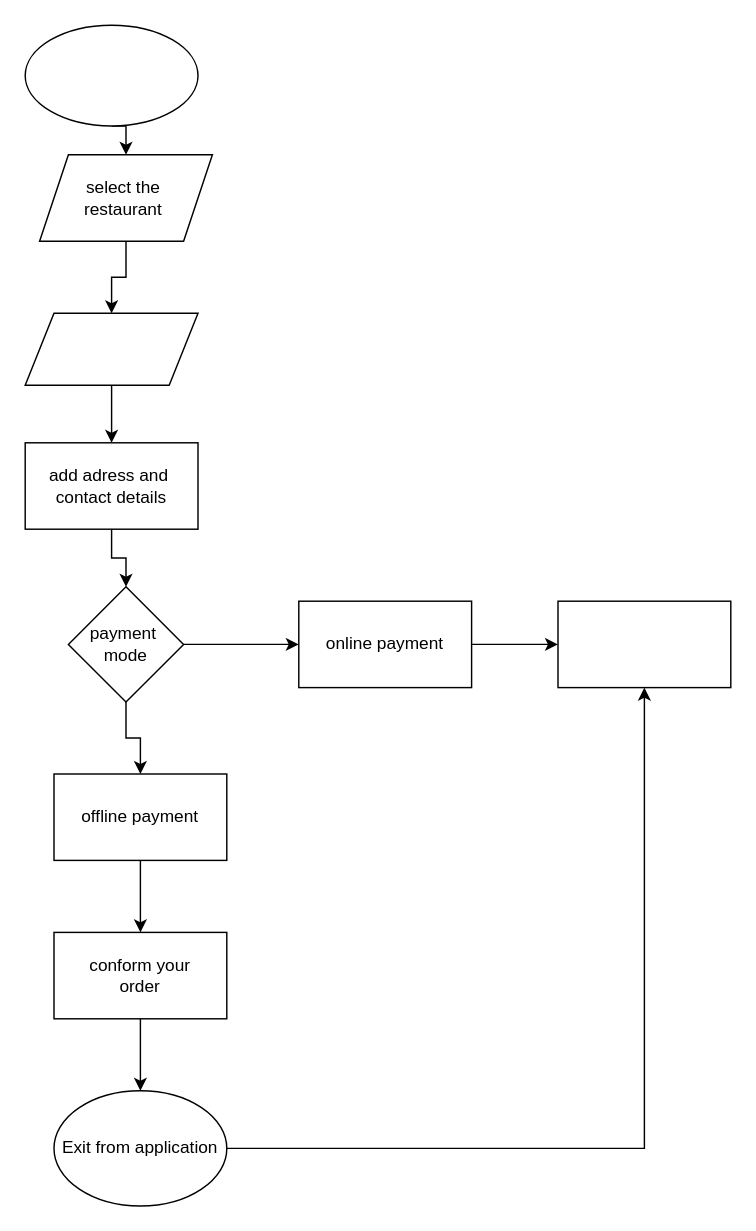
Some shapes in this 756 by 1231 pixel diagram are drawn without their labels. The box of each missing label's shape, as (x1, y1, x2, y2) in pixels:
choose the items to order and quantity: (24, 312, 198, 385)
give card details or upi id: (557, 600, 731, 688)
start your order: (24, 24, 198, 126)
